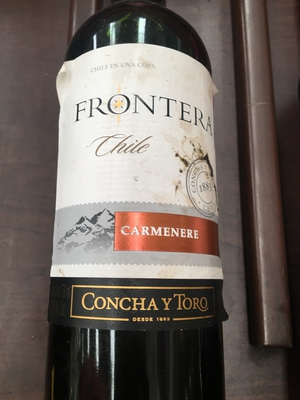frontera carmenere: (42, 1, 222, 390)
